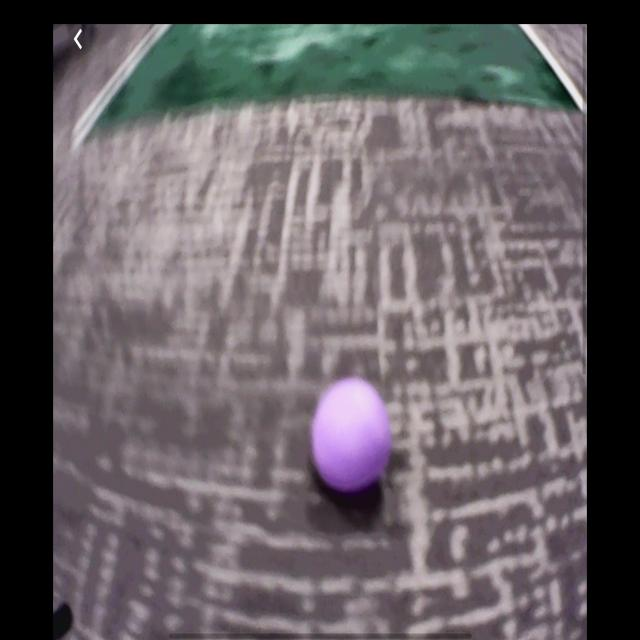ball: (311, 376, 394, 494)
